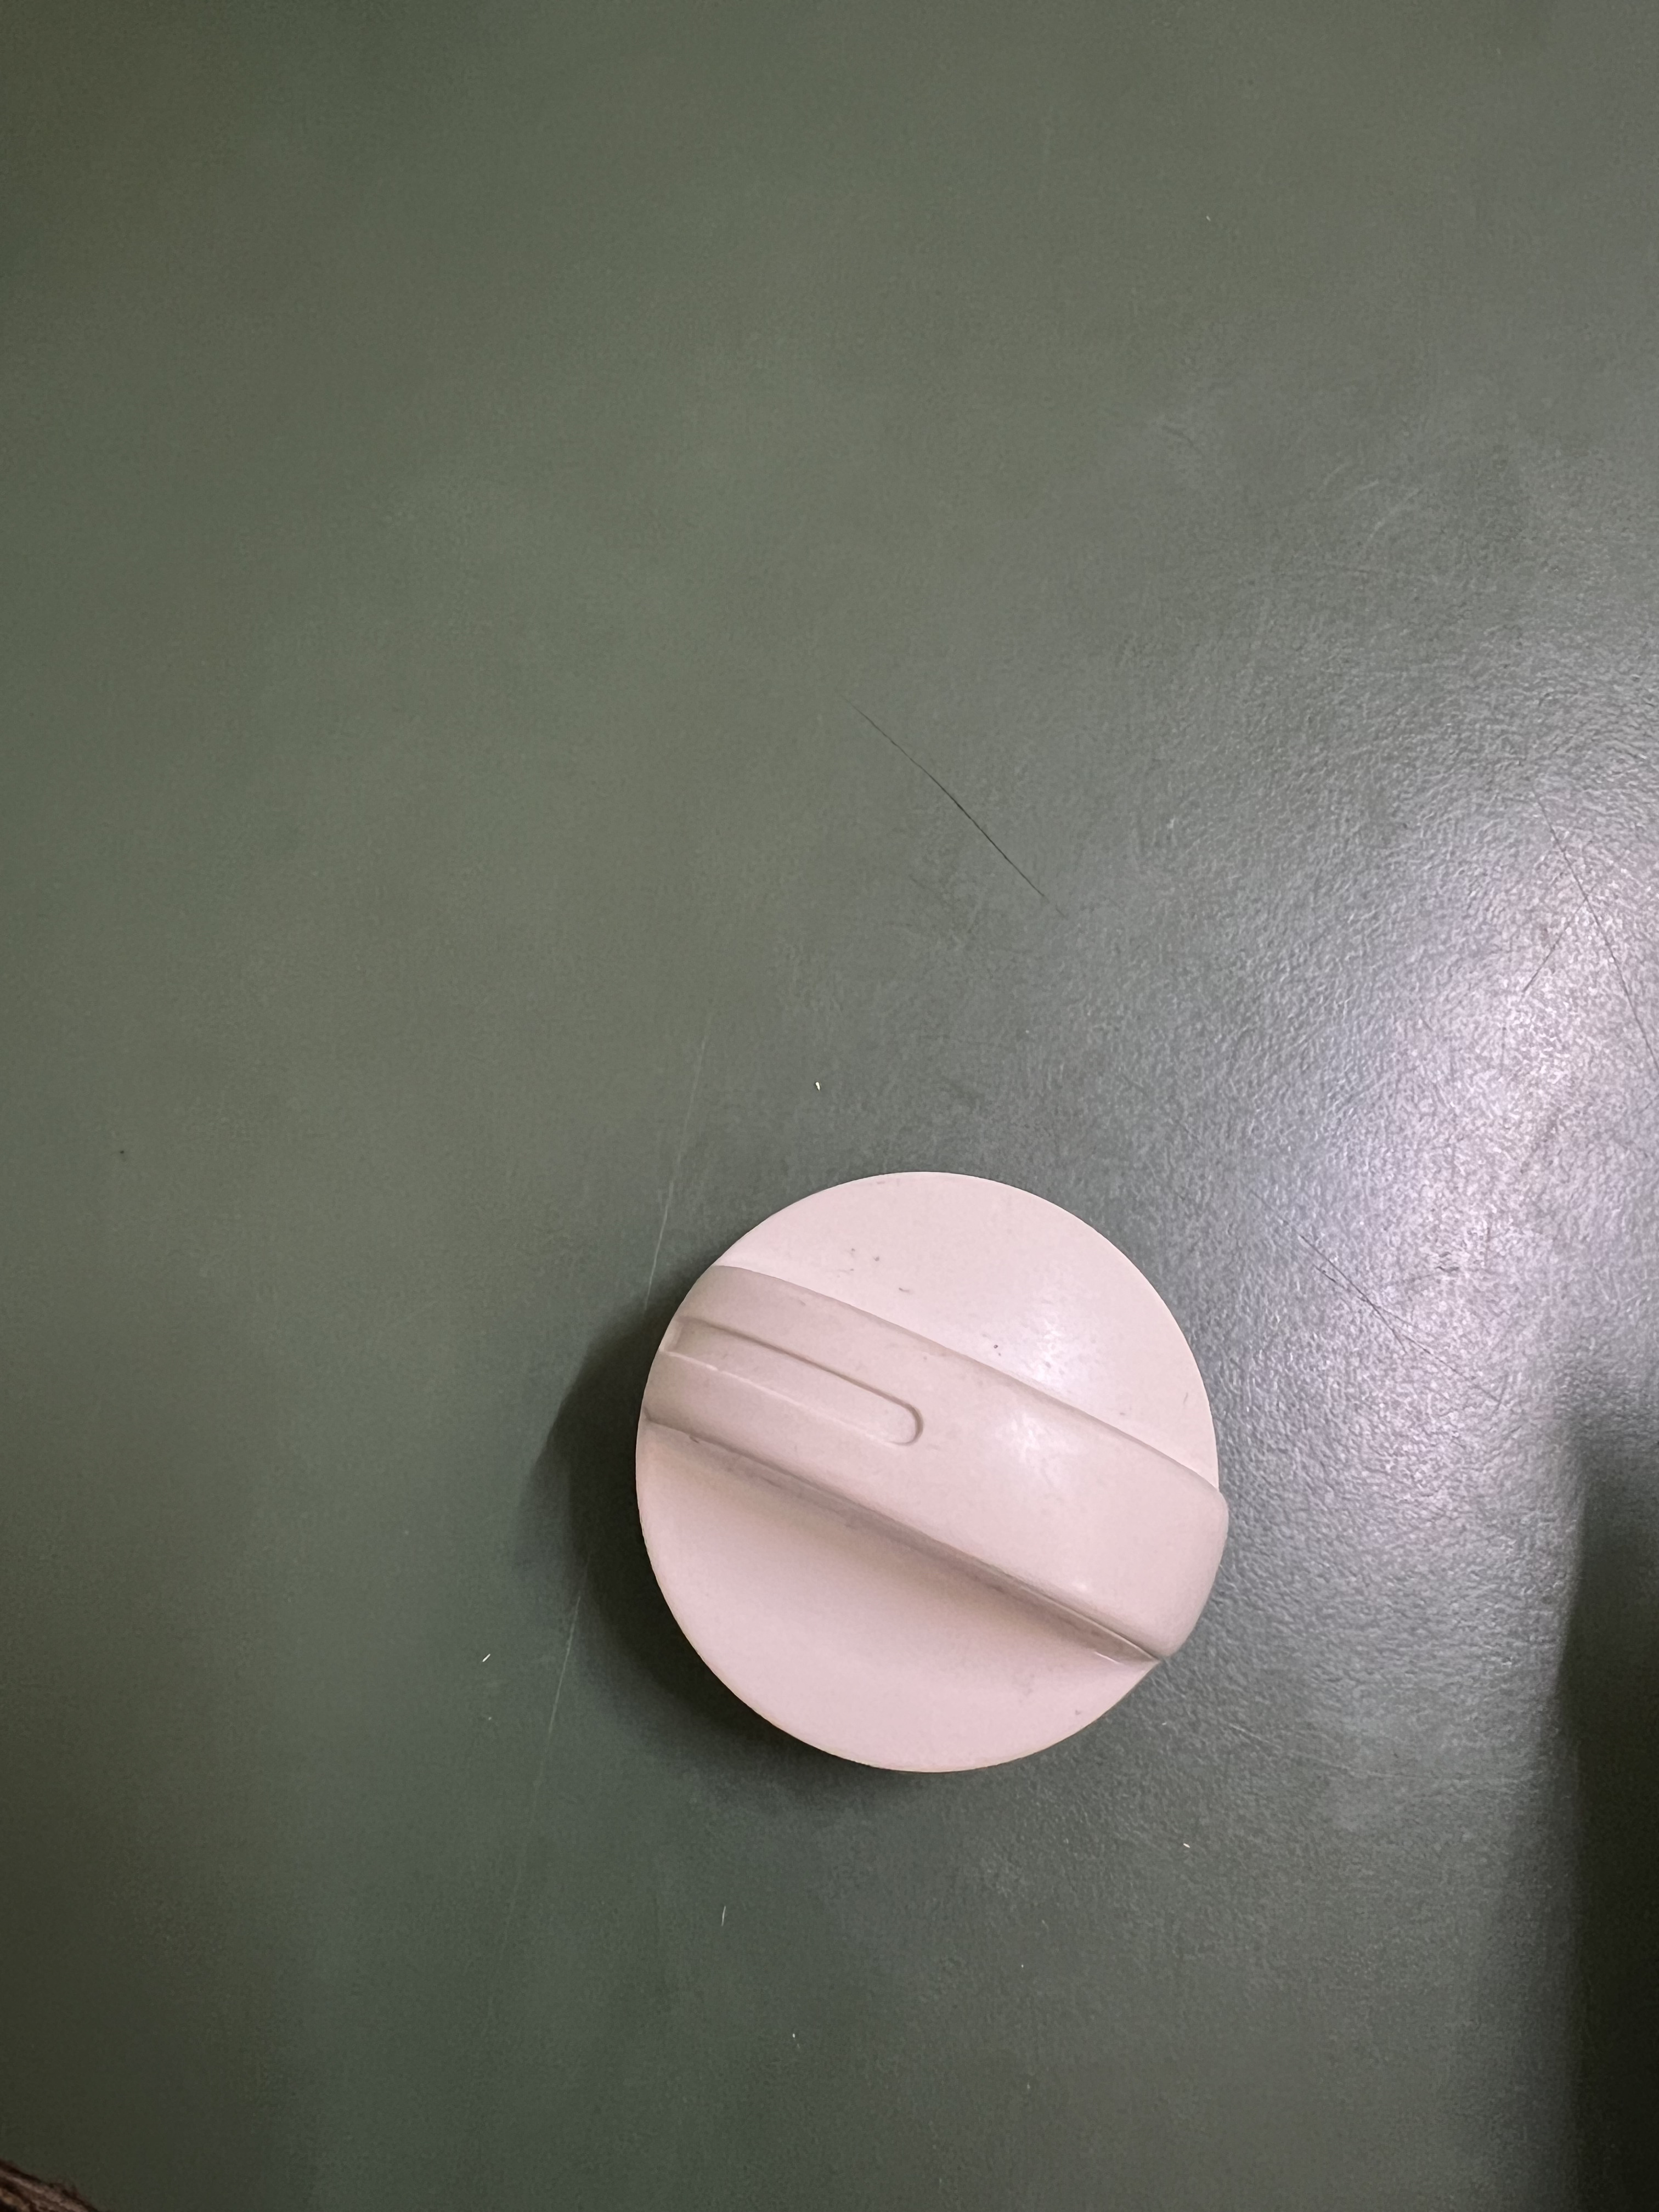regulator: (652, 1139, 1244, 1784)
